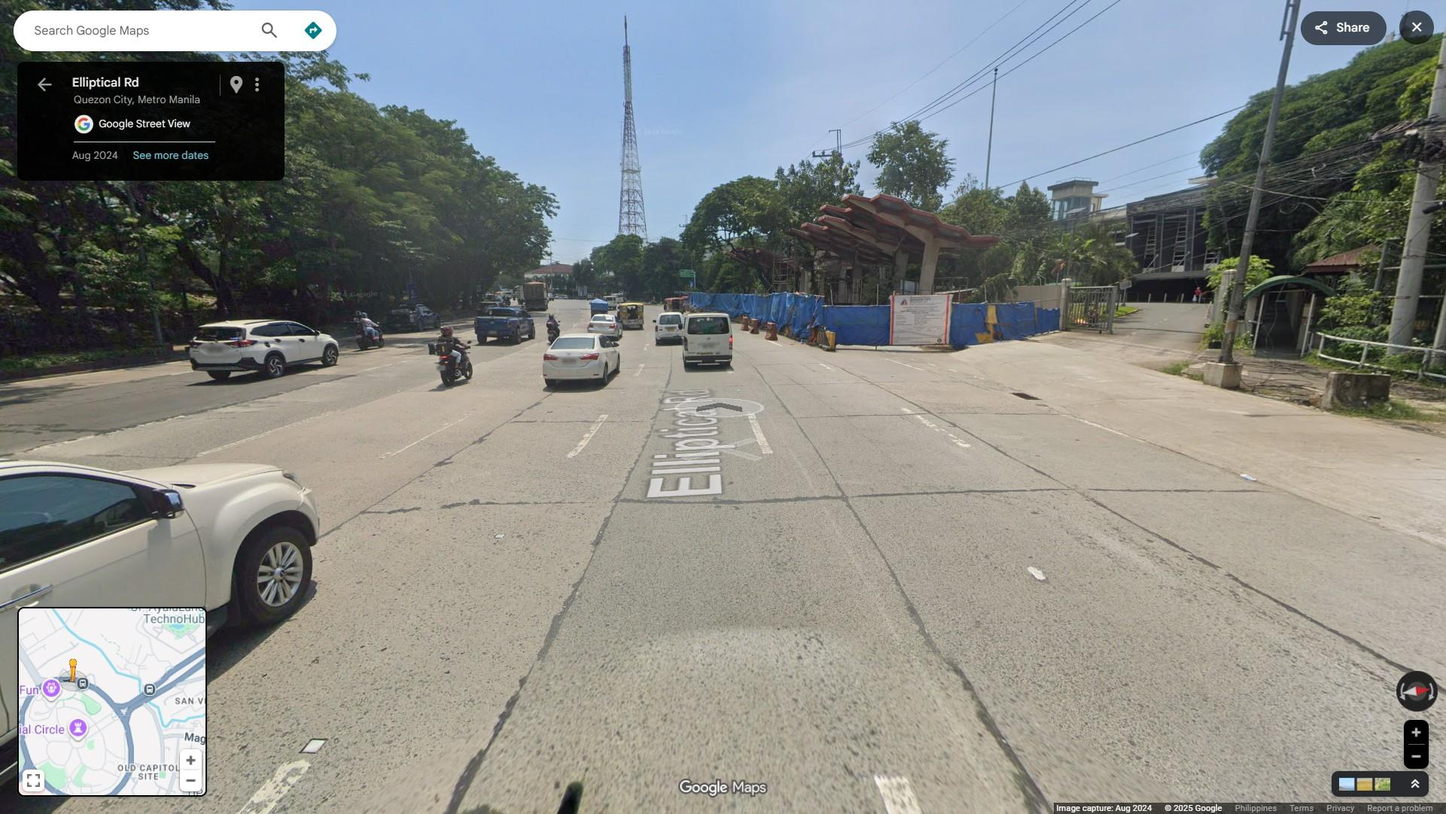pedestrian: (1194, 286, 1202, 303)
